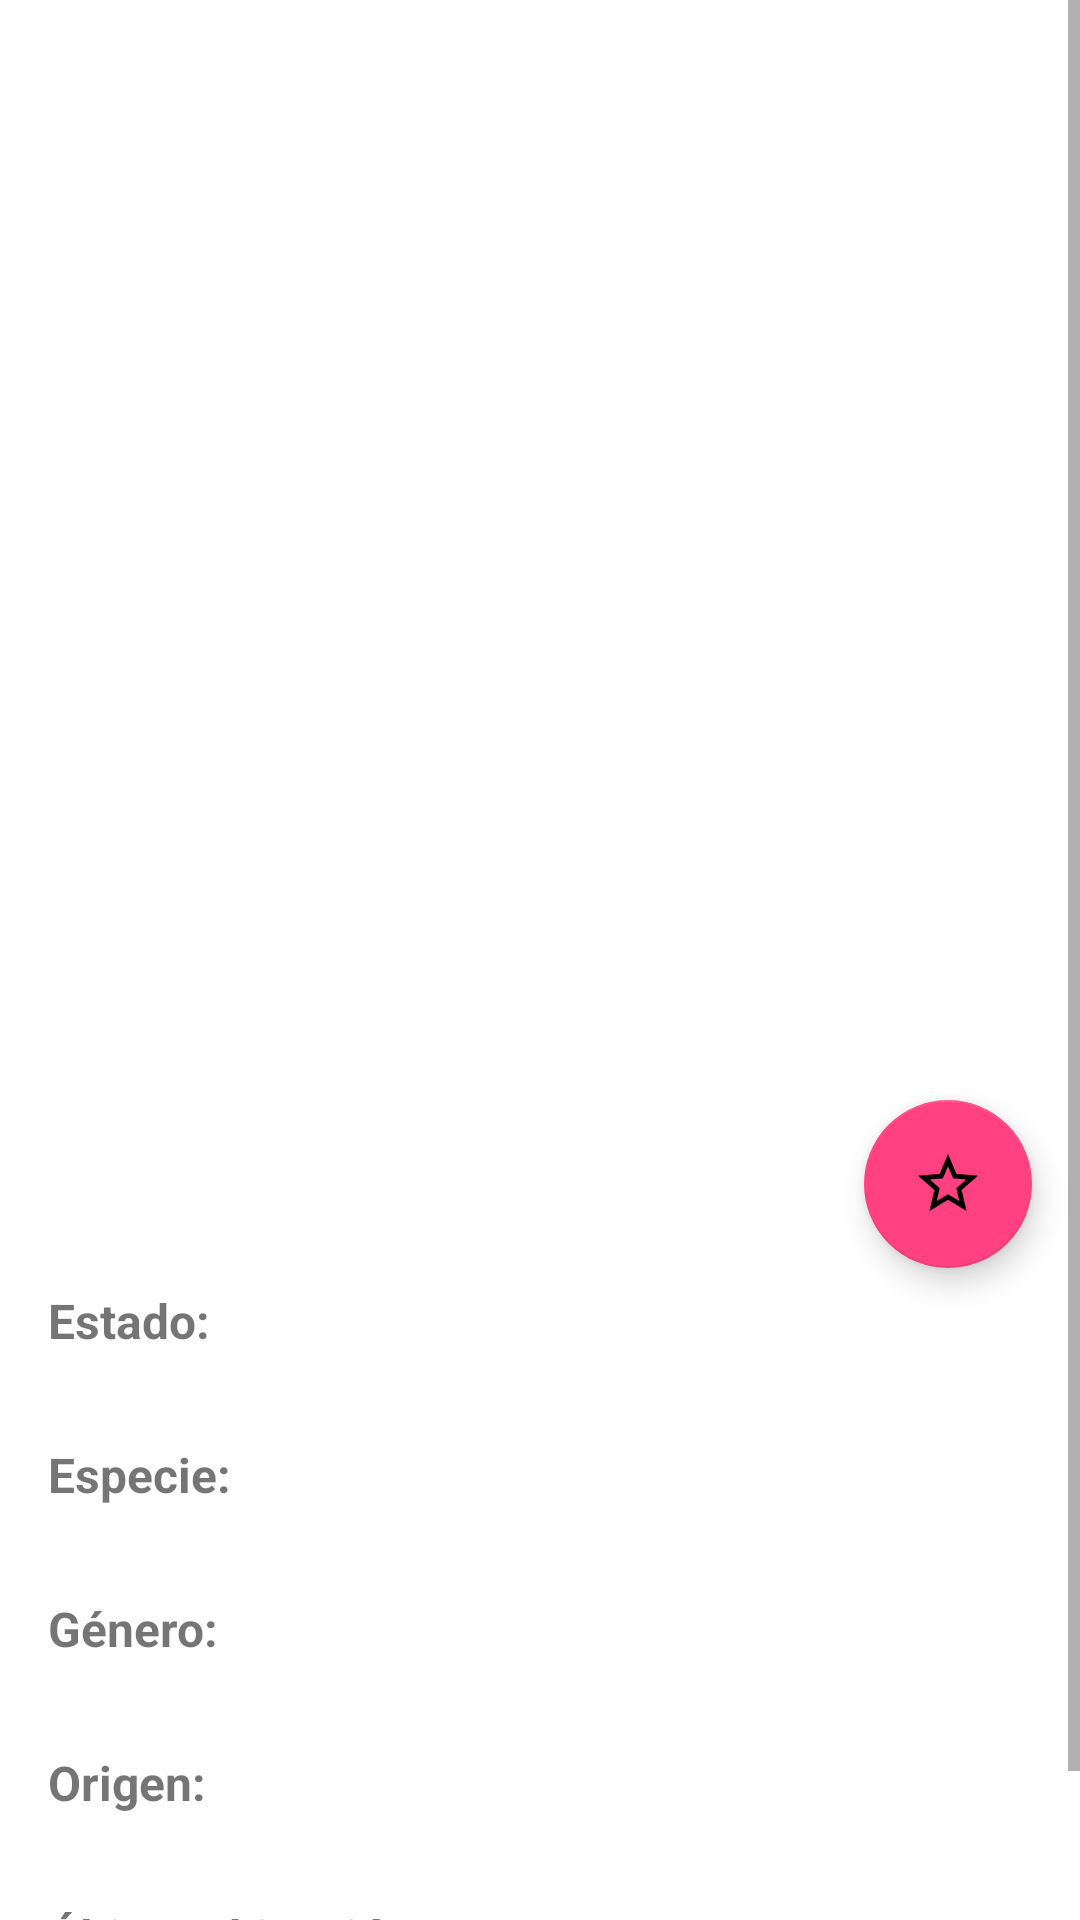

Screen size 1080 × 1920. Icon name, then its box in pixels as (x1, y1, x2, y2):
Marcar como favorito: (864, 1100, 1032, 1268)
